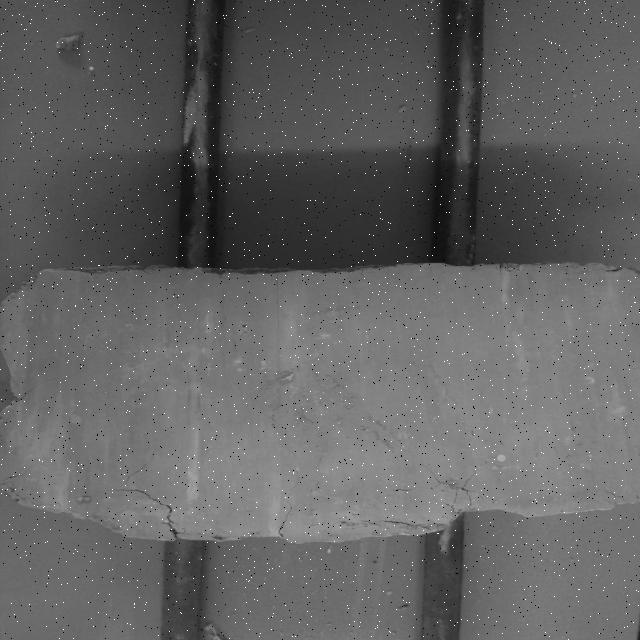bricks_ruin: (0, 263, 640, 542)
